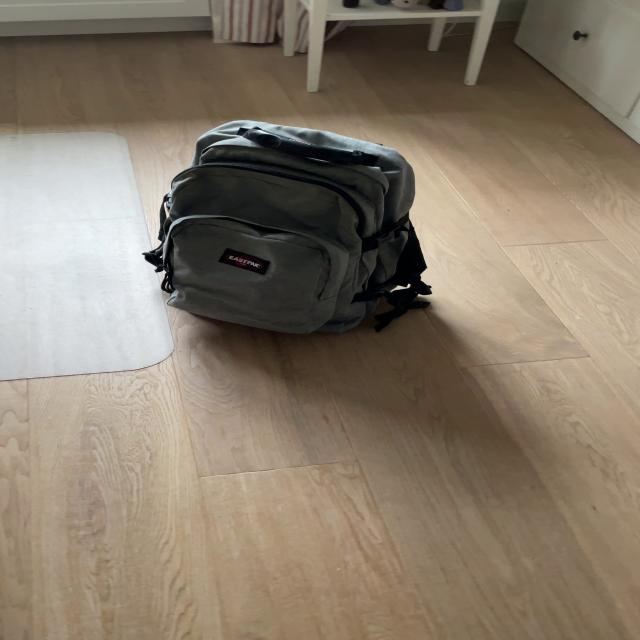backpack: (141, 112, 450, 342)
